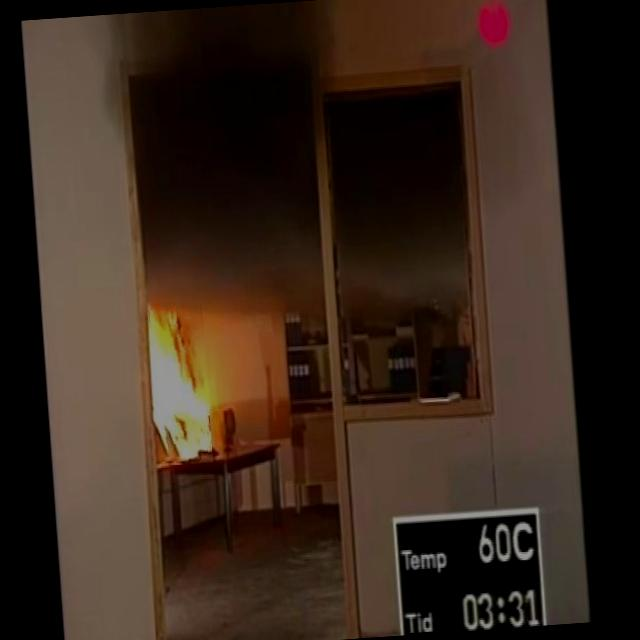fire: (146, 302, 239, 473)
